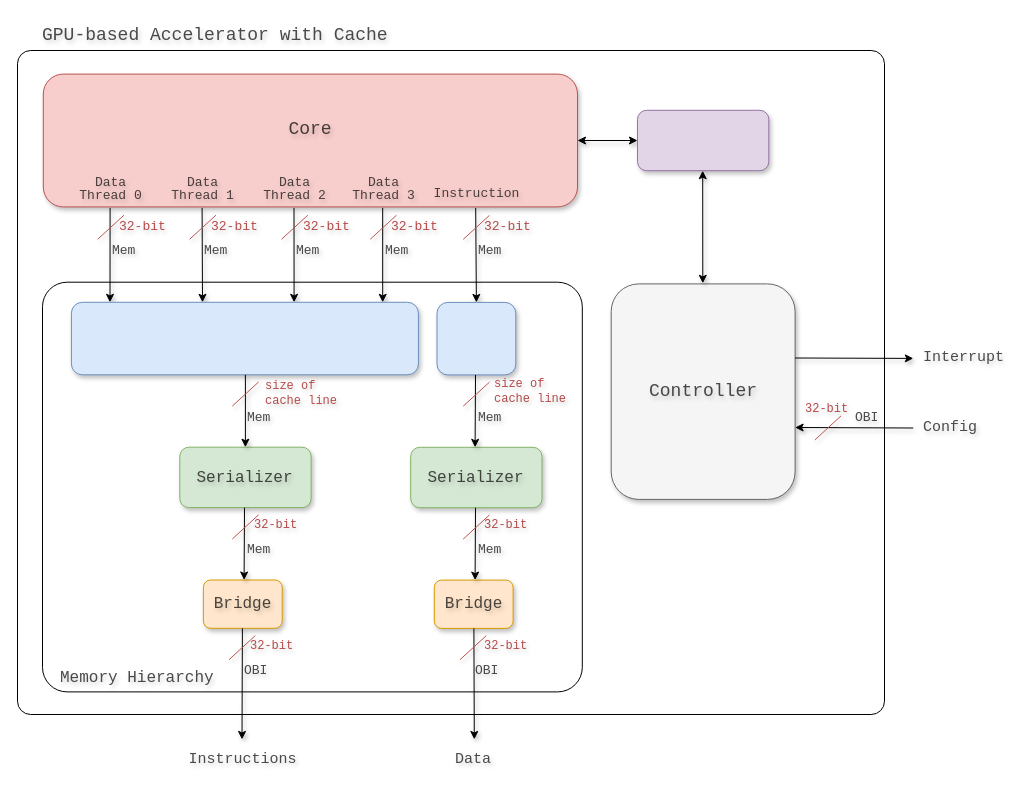
Some shapes in this 1022 by 794 pixel diagram are drawn without their labels. The shapes that lost their labels are listed below. From the top down, each one's centre as x and y in pixels, then its label:
At (x=703, y=141): "Clock Gate Cell".
At (x=245, y=339): "Data Cache".
At (x=477, y=339): "Instr Cache".
